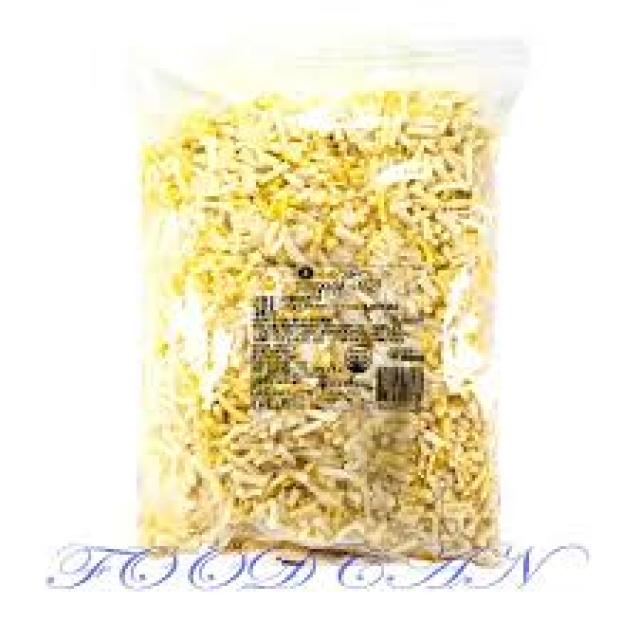Cheese: (165, 145, 478, 529)
